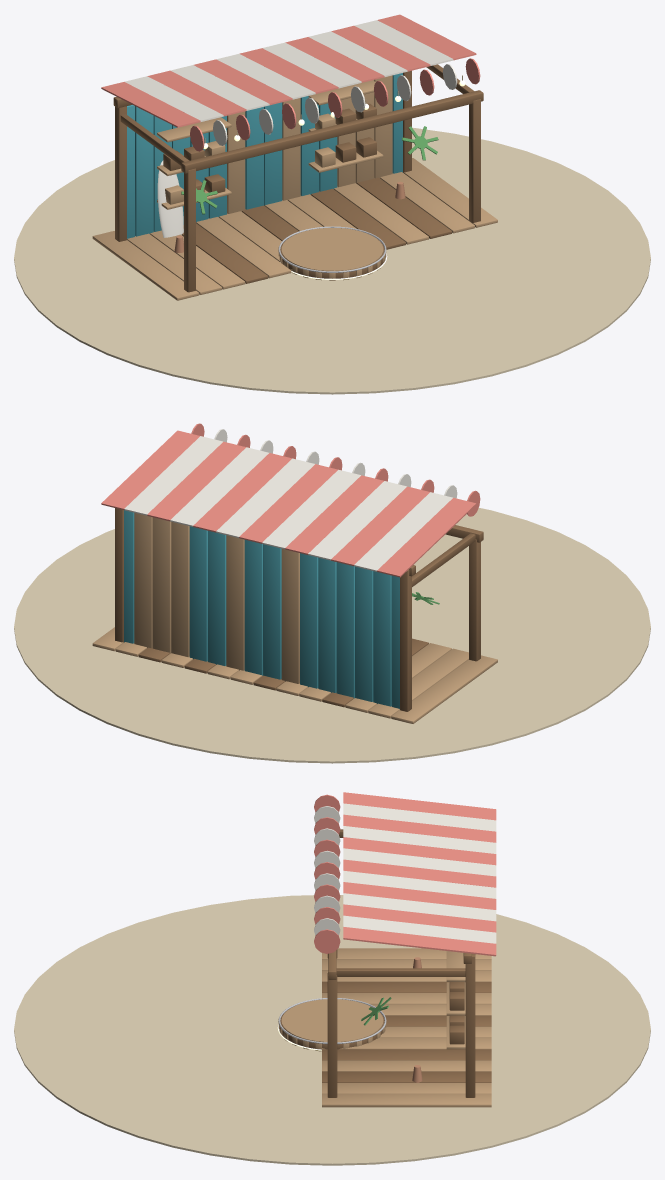
The model's file is boutique.glb.
The picture shows the model from 3 angles, top to bottom: view 1: azimuth 30°, elevation 25°; view 2: azimuth 150°, elevation 25°; view 3: azimuth 270°, elevation 25°; orthographic projection.
Parts seen in each view (by area): view 1: boutique; view 2: boutique; view 3: boutique.
Boxes of the visible parts, x1,y1,x2,y2 form: boutique: (14,14,650,394); boutique: (14,423,650,763); boutique: (14,792,650,1165).
Size of the model in its own units: 12 by 3.88 by 12.
